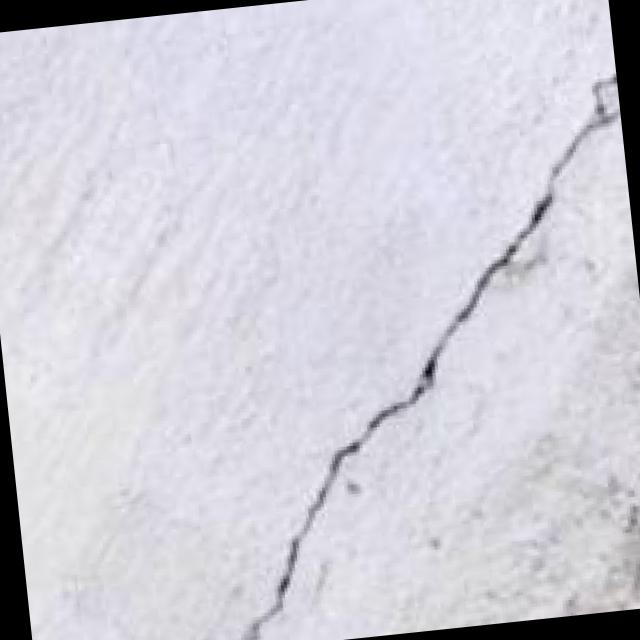crack: (178, 53, 640, 640)
